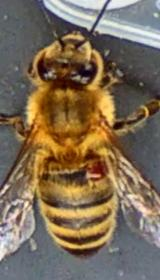varroa_mite: (80, 162, 114, 186)
